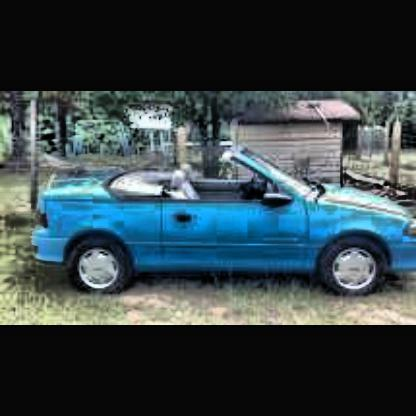Geo Metro Convertible 1993: (36, 151, 416, 305)
